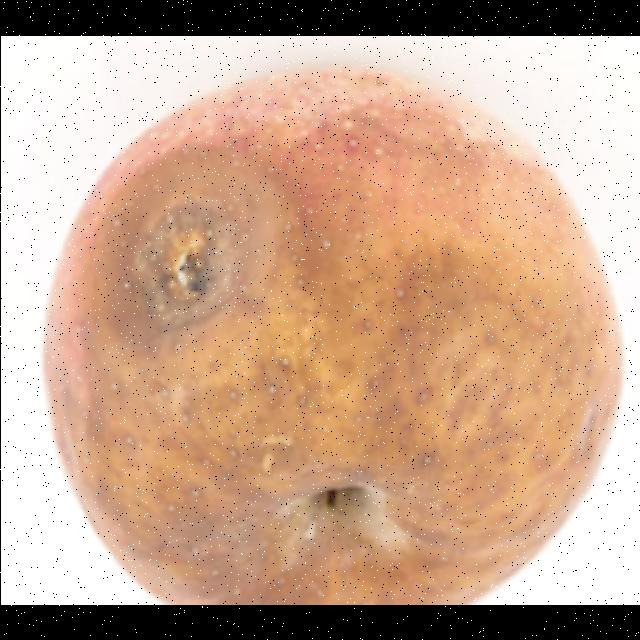Apel Tidak Segar: (43, 71, 622, 604)
